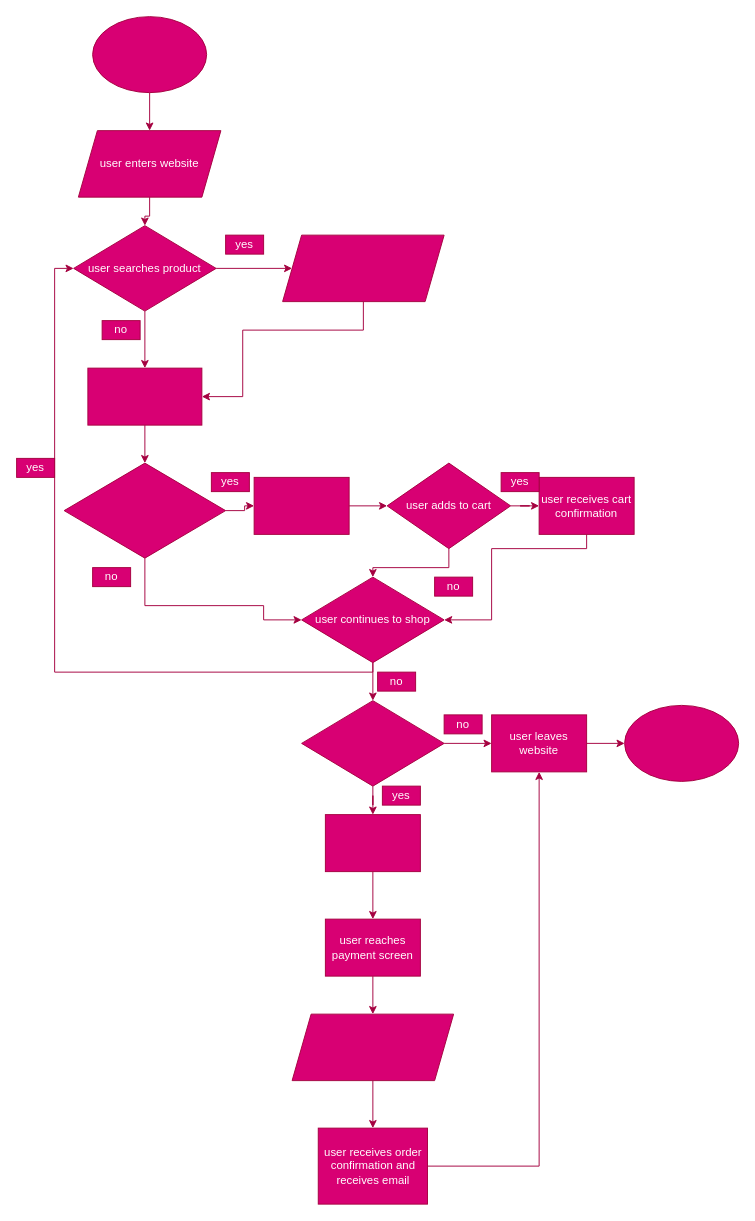
Image size: 755x1221. Some labels were removed from this diagram. The shapes that lost their labels are listed below. From the top down, each one's centre as x and y in pixels, then its label:
the point at 149,54: start
the point at 363,268: user enters product query
the point at 144,396: user looks over products
the point at 144,510: user views specific product
the point at 301,505: product webpage opened
the point at 372,743: user checksout
the point at 681,742: end
the point at 372,843: user reaches view cart screen
the point at 372,1047: user enters payment info
